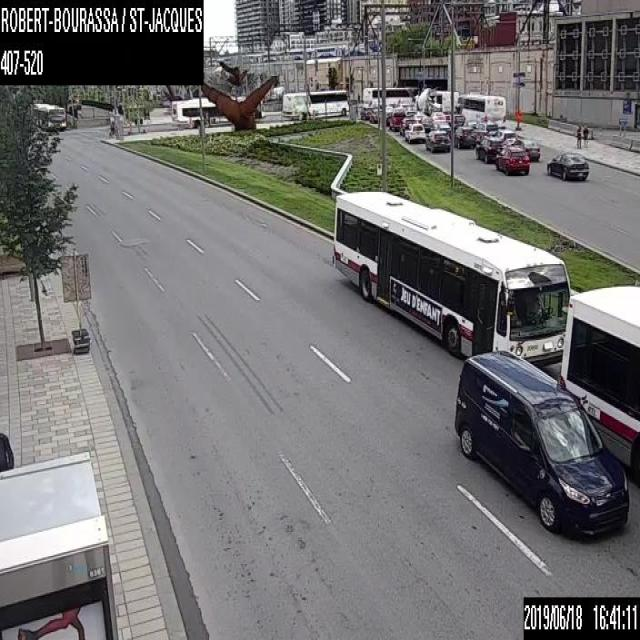bus: (333, 189, 571, 374), (562, 285, 639, 536), (280, 87, 349, 117), (170, 95, 229, 126), (455, 92, 506, 125), (362, 86, 420, 111), (31, 98, 66, 128), (434, 88, 458, 114)
construction: (514, 111, 522, 129)
pedestrian: (574, 122, 581, 150), (582, 123, 588, 149)
vehicle: (455, 347, 629, 535), (546, 148, 590, 180), (496, 144, 530, 174), (475, 134, 502, 161), (425, 128, 451, 150), (517, 136, 540, 160), (416, 84, 435, 112), (454, 125, 476, 149), (403, 122, 425, 141), (388, 111, 405, 130), (419, 116, 434, 129), (234, 92, 244, 99)
